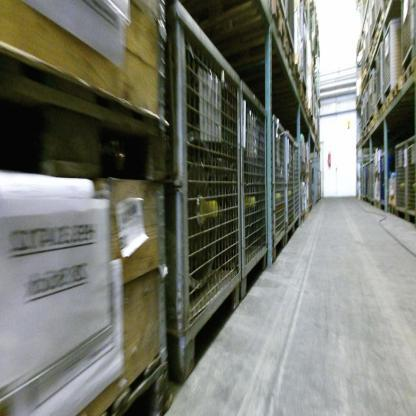pallets: (354, 39, 415, 142)
